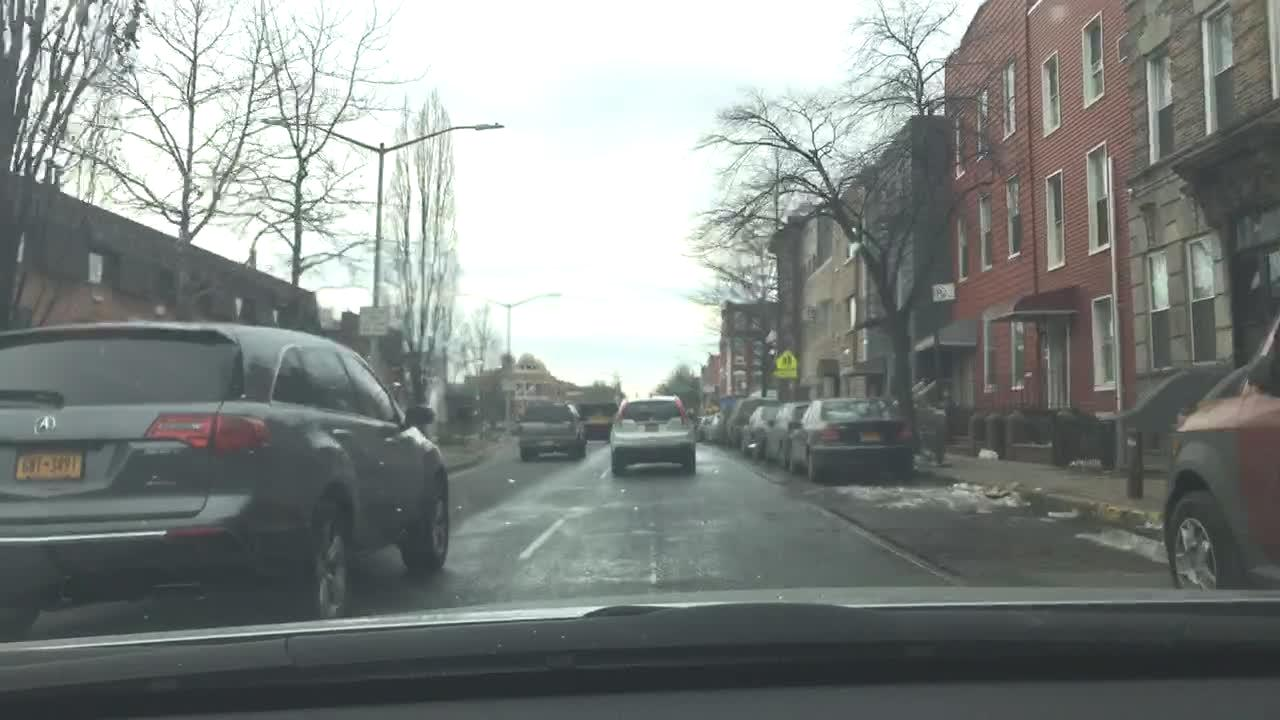acura: (23, 411, 62, 441)
